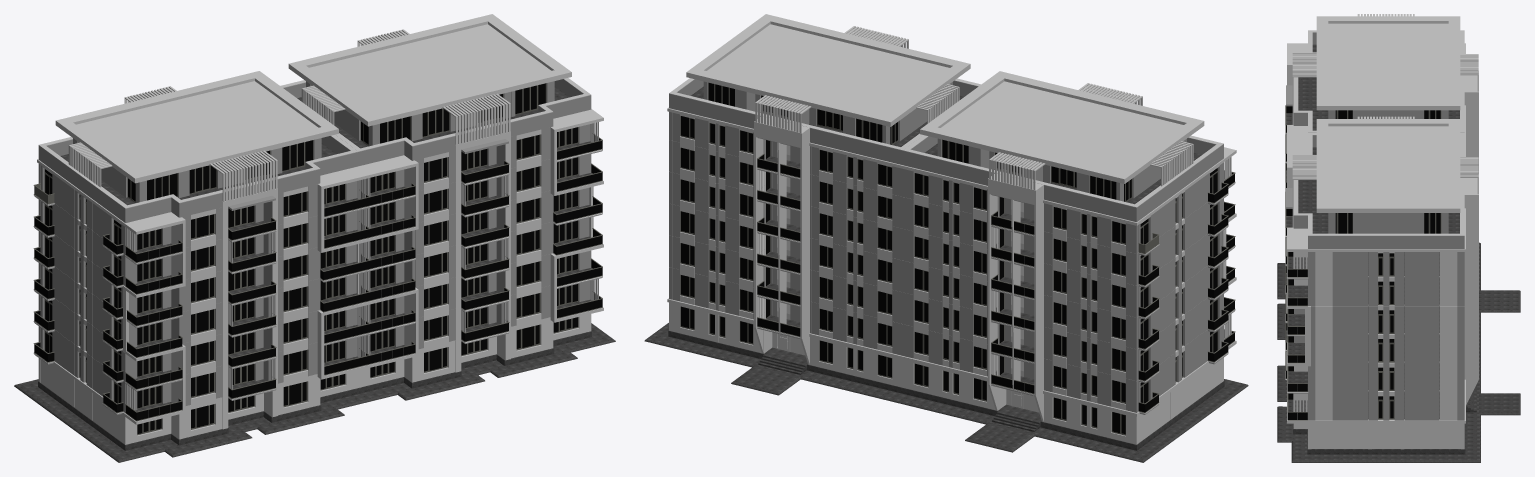
The model's file is Apartment_Building.fbx.
3 renders of one model, left to right at view 1: azimuth 30°, elevation 25°; view 2: azimuth 150°, elevation 25°; view 3: azimuth 270°, elevation 25°, orthographic. The views are drawn at different scales.
Visible parts, largest first — view 1: Apartment Buildings02.058, Apartment Buildings02.080, Apartment Buildings02.083, Apartment Buildings02.072, Apartment Buildings02.069, Apartment Buildings02.064, Apartment Buildings02.062, Apartment Buildings02.082, Apartment Buildings02.071, Apartment Buildings02.084, Apartment Buildings02.047, Apartment Buildings02.073 (+35 smaller); view 2: Apartment Buildings02.058, Apartment Buildings02.080, Apartment Buildings02.069, Apartment Buildings02.072, Apartment Buildings02.083, Apartment Buildings02.071, Apartment Buildings02.082, Apartment Buildings02.079, Apartment Buildings02.086, Apartment Buildings02.075, Apartment Buildings02.047, Apartment Buildings02.050 (+33 smaller); view 3: Apartment Buildings02.069, Apartment Buildings02.083, Apartment Buildings02.072, Apartment Buildings02.076, Apartment Buildings02.082, Apartment Buildings02.071, Apartment Buildings02.068, Apartment Buildings02.047, Apartment Buildings02.073, Apartment Buildings02.075, Apartment Buildings02.058, Apartment Buildings02.039 (+22 smaller).
Part boxes in pixels (x1,y1,x2,y2): Apartment Buildings02.058: [44, 83, 578, 435]; Apartment Buildings02.080: [38, 164, 357, 412]; Apartment Buildings02.083: [76, 81, 318, 171]; Apartment Buildings02.072: [309, 24, 551, 114]; Apartment Buildings02.069: [361, 124, 591, 349]; Apartment Buildings02.064: [125, 192, 369, 420]; Apartment Buildings02.062: [369, 135, 602, 363]; Apartment Buildings02.082: [55, 71, 338, 183]; Apartment Buildings02.071: [288, 14, 571, 126]; Apartment Buildings02.084: [37, 159, 370, 424]; Apartment Buildings02.047: [17, 324, 612, 459]; Apartment Buildings02.073: [358, 109, 603, 367]; Apartment Buildings02.058: [680, 82, 1217, 435]; Apartment Buildings02.080: [903, 162, 1223, 412]; Apartment Buildings02.069: [669, 112, 902, 355]; Apartment Buildings02.072: [707, 24, 949, 114]; Apartment Buildings02.083: [940, 81, 1183, 171]; Apartment Buildings02.071: [686, 14, 970, 126]; Apartment Buildings02.082: [920, 71, 1204, 183]; Apartment Buildings02.079: [903, 357, 1223, 444]; Apartment Buildings02.086: [988, 173, 1043, 421]; Apartment Buildings02.075: [754, 116, 809, 364]; Apartment Buildings02.047: [648, 323, 1244, 459]; Apartment Buildings02.050: [903, 136, 1223, 222]; Apartment Buildings02.069: [1294, 252, 1464, 420]; Apartment Buildings02.083: [1328, 23, 1448, 101]; Apartment Buildings02.072: [1328, 126, 1448, 203]; Apartment Buildings02.076: [1315, 252, 1457, 420]; Apartment Buildings02.082: [1316, 16, 1460, 110]; Apartment Buildings02.071: [1316, 119, 1460, 212]; Apartment Buildings02.068: [1293, 419, 1464, 449]; Apartment Buildings02.047: [1279, 263, 1478, 460]; Apartment Buildings02.073: [1287, 146, 1465, 423]; Apartment Buildings02.075: [1464, 174, 1478, 404]; Apartment Buildings02.058: [1335, 110, 1441, 419]; Apartment Buildings02.039: [1293, 135, 1464, 248].
Size of the model in its own units: 5421 by 2780 by 2545.
